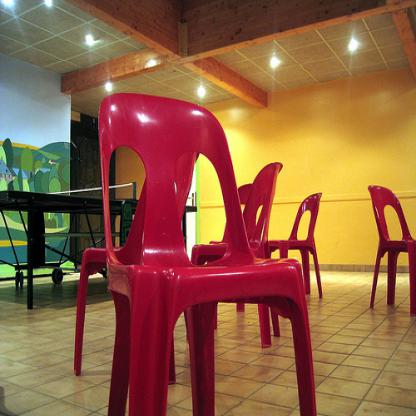chair: (98, 92, 316, 415), (72, 140, 202, 385), (185, 161, 283, 347), (366, 184, 415, 317), (267, 192, 323, 298), (209, 182, 253, 312)
